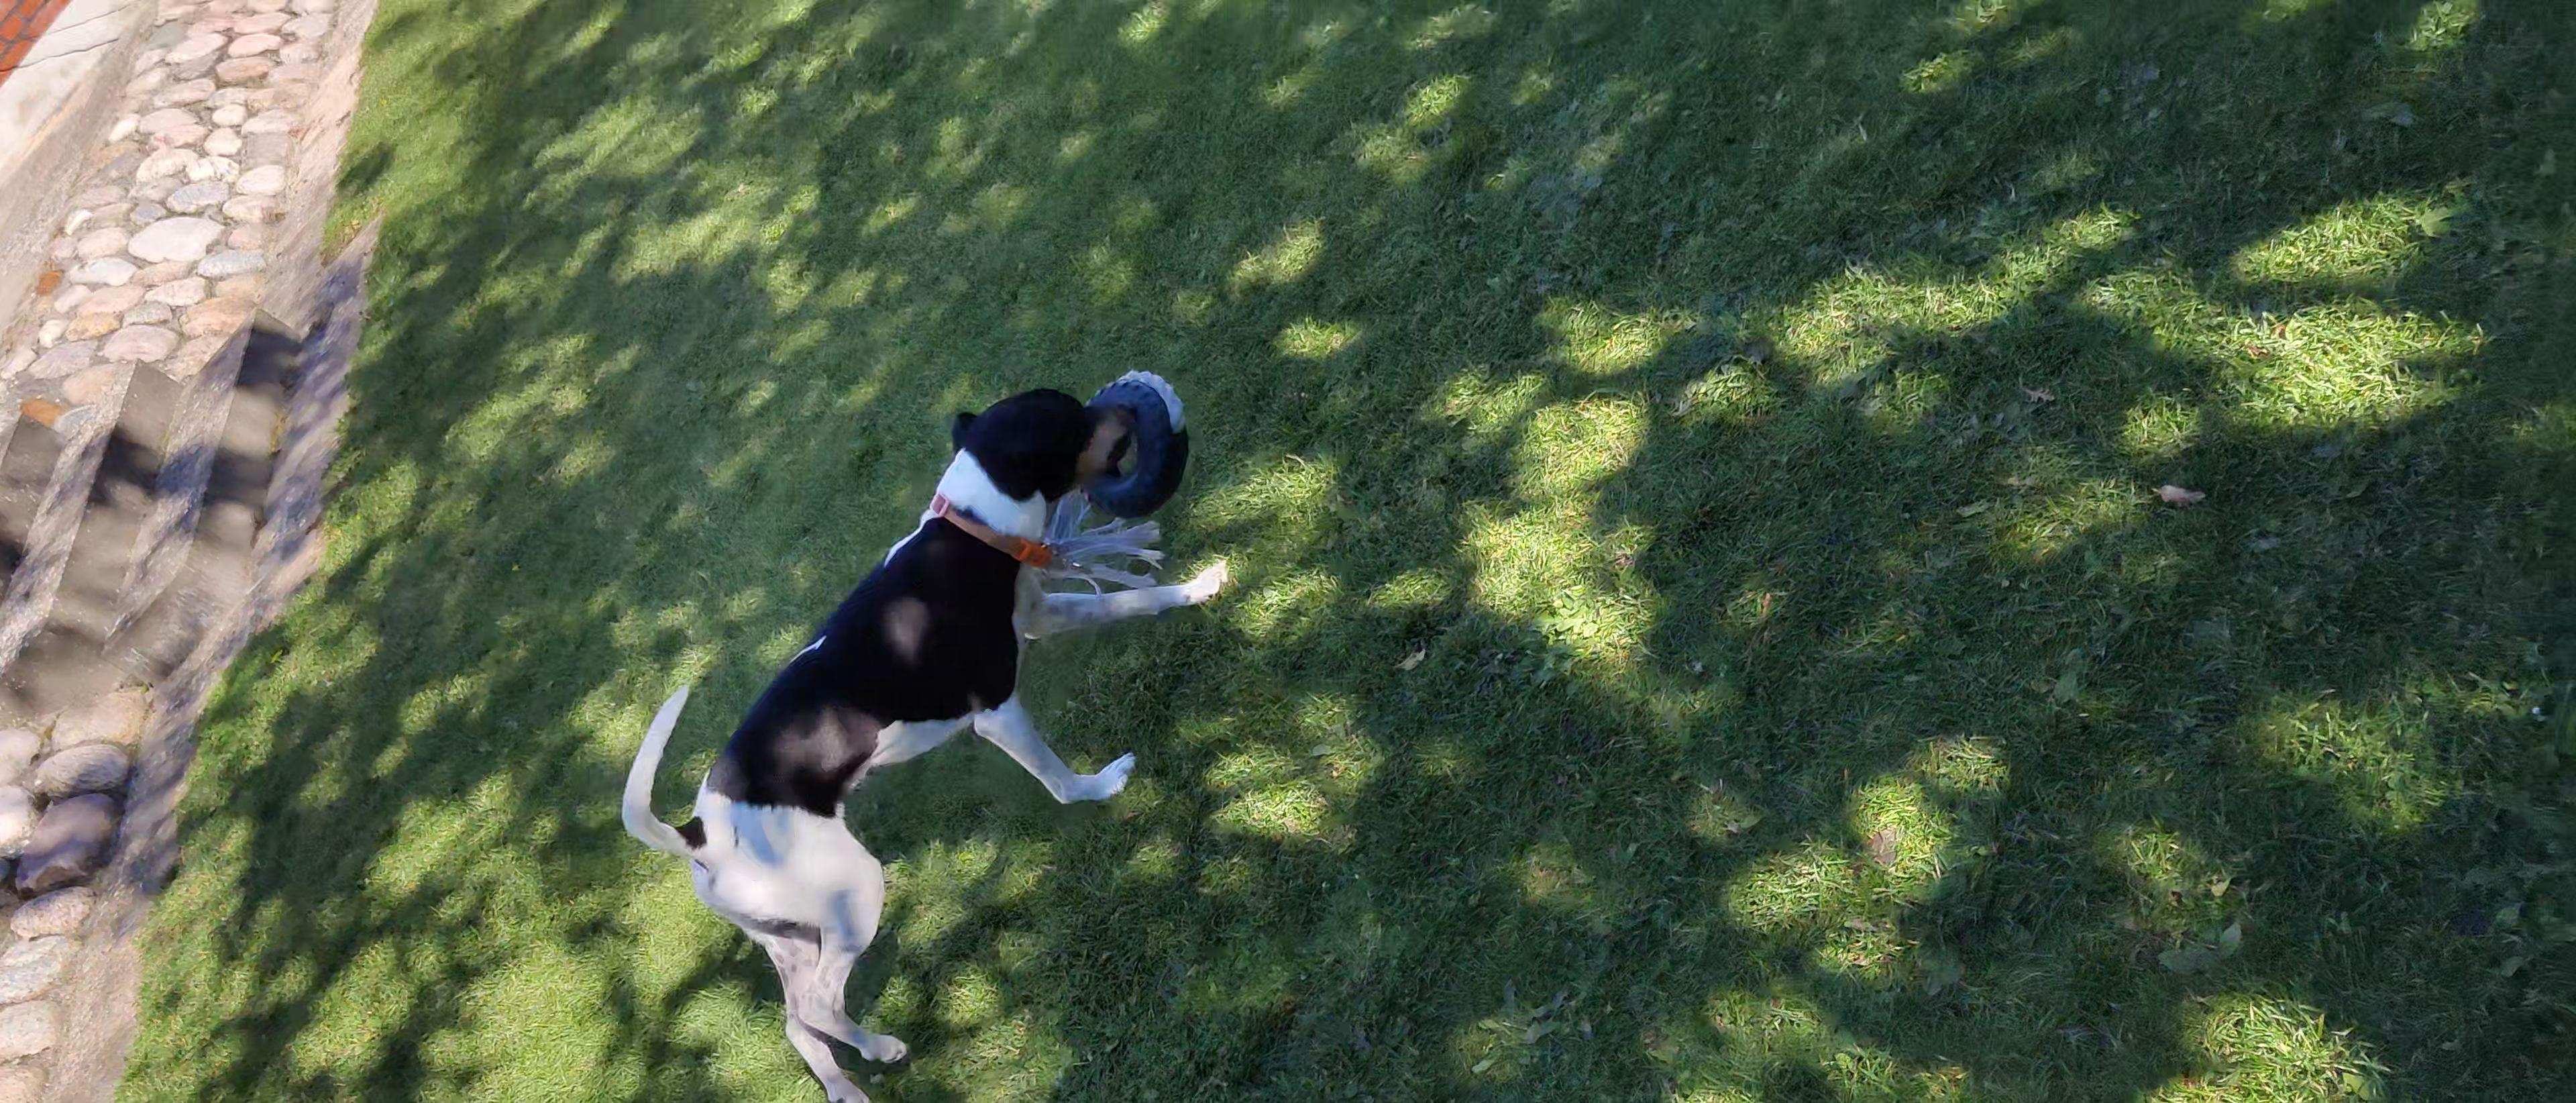Dog: (618, 381, 1234, 1103)
